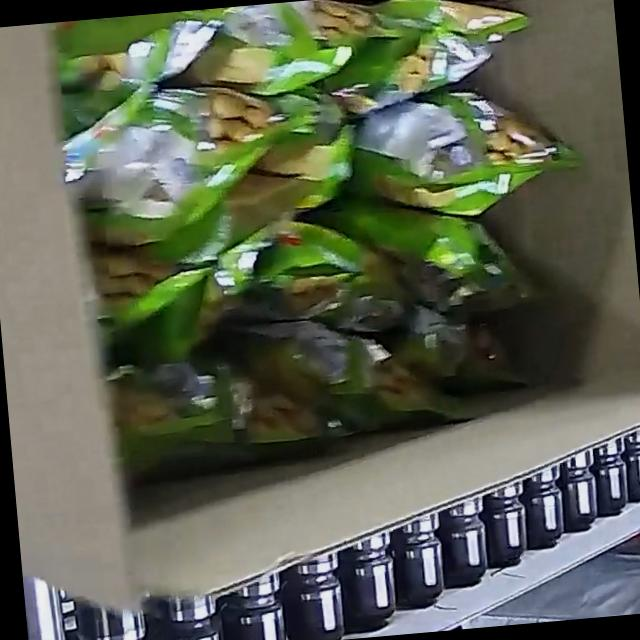yogurt: (42, 0, 607, 473)
